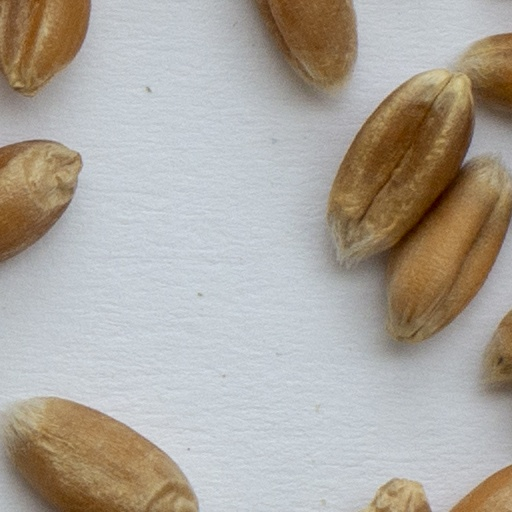Wheat-grain-poly: (327, 69, 469, 266), (0, 388, 200, 511), (386, 148, 511, 344), (0, 142, 78, 263), (337, 472, 433, 511), (477, 306, 511, 390), (454, 464, 511, 511)
